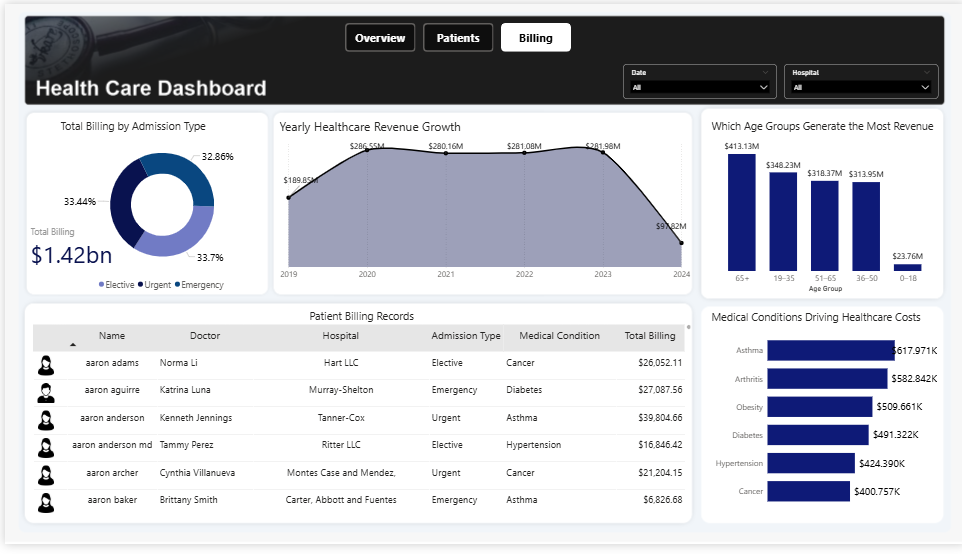

This screenshot's page, from the dashboard's own definition file:
{"tool":"powerbi","page":{"name":"Billing","canvas":[1920,1080],"ordinal":2},"visuals":[{"type":"cardVisual","fields":{"Data":["Dax.Total Billing"]},"box":[33.3,425,241.7,133.3],"z":0},{"type":"columnChart","title":"Which Age Groups Generate the Most Revenue","fields":{"Category":["healthcare_db healthcare_new.Age group"],"Y":["Dax.Total Billing"]},"box":[1408,228,466,354],"z":1000},{"type":"slicer","fields":{"Values":["healthcare_db healthcare_new.Hospital"]},"box":[1558.8,120,308.8,70],"z":2000},{"type":"slicer","fields":{"Values":["Date.Date.Variation.Date Hierarchy.Year","Date.Date.Variation.Date Hierarchy.Quarter","Date.Date.Variation.Date Hierarchy.Month","Date.Date.Variation.Date Hierarchy.Day"]},"box":[1236,120,308,70],"z":3000},{"type":"actionButton","box":[679,37.2,141.2,57.5],"z":4000},{"type":"actionButton","box":[835.2,37.2,141.2,57.5],"z":5000},{"type":"actionButton","box":[992.3,37.7,140,57.5],"z":6000},{"type":"lineChart","title":"Yearly Healthcare Revenue Growth","fields":{"Category":["Date.Date.Variation.Date Hierarchy.Year","Date.Date.Variation.Date Hierarchy.Quarter","Date.Date.Variation.Date Hierarchy.Month","Date.Date.Variation.Date Hierarchy.Day"],"Y":["Dax.Total Billing"]},"box":[544,228,832,332],"z":7000},{"type":"donutChart","fields":{"Category":["healthcare_db healthcare_new.Admission Type"],"Y":["Dax.Total Billing"]},"box":[105,228.3,416.7,353.3],"z":8000},{"type":"clusteredBarChart","title":"Medical Conditions Driving Healthcare Costs","fields":{"Category":["healthcare_db healthcare_new.Medical Condition"],"Y":["Dax.Total Billing"]},"box":[1408,610,458,414],"z":9000},{"type":"tableEx","title":"Patient Billing Records","fields":{"Values":["healthcare_db healthcare_new.img","healthcare_db healthcare_new.Name","healthcare_db healthcare_new.Doctor","healthcare_db healthcare_new.Hospital","healthcare_db healthcare_new.Admission Type","healthcare_db healthcare_new.Medical Condition","Dax.Total Billing"]},"box":[50,608.3,1326.7,416.7],"z":10000}]}

Visuals, with their boxes in screenshot pixels (x1, y1, x2, y2), scaled from the page's 1920x1080 canvas onto the 962x554 screenshot:
cardVisual - Dax.Total Billing: <bbox>17, 218, 138, 286</bbox>
"Which Age Groups Generate the Most Revenue" columnChart: <bbox>705, 117, 939, 299</bbox>
slicer - healthcare_db healthcare_new.Hospital: <bbox>781, 62, 936, 97</bbox>
slicer - Date.Date.Variation.Date Hierarchy.Year x Date.Date.Variation.Date Hierarchy.Quarter: <bbox>619, 62, 774, 97</bbox>
actionButton: <bbox>340, 19, 411, 49</bbox>
actionButton: <bbox>418, 19, 489, 49</bbox>
actionButton: <bbox>497, 19, 567, 49</bbox>
"Yearly Healthcare Revenue Growth" lineChart: <bbox>273, 117, 689, 287</bbox>
donutChart - healthcare_db healthcare_new.Admission Type x Dax.Total Billing: <bbox>53, 117, 261, 298</bbox>
"Medical Conditions Driving Healthcare Costs" clusteredBarChart: <bbox>705, 313, 935, 525</bbox>
"Patient Billing Records" tableEx: <bbox>25, 312, 690, 526</bbox>
